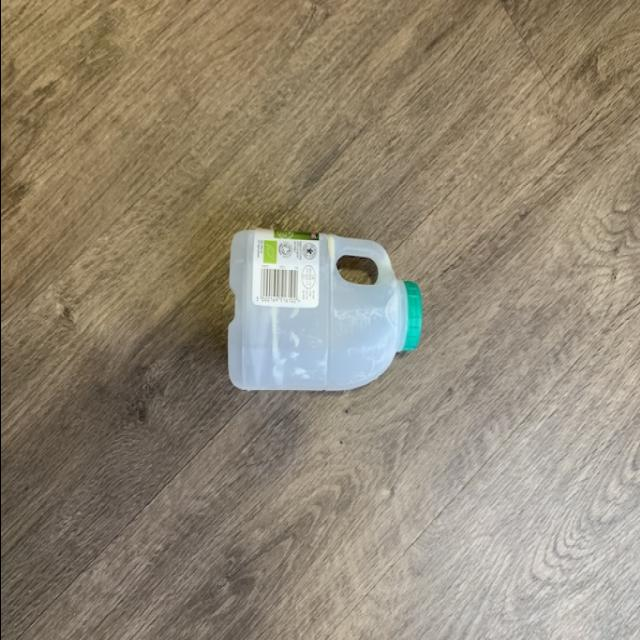HDPEM: (224, 224, 424, 394)
